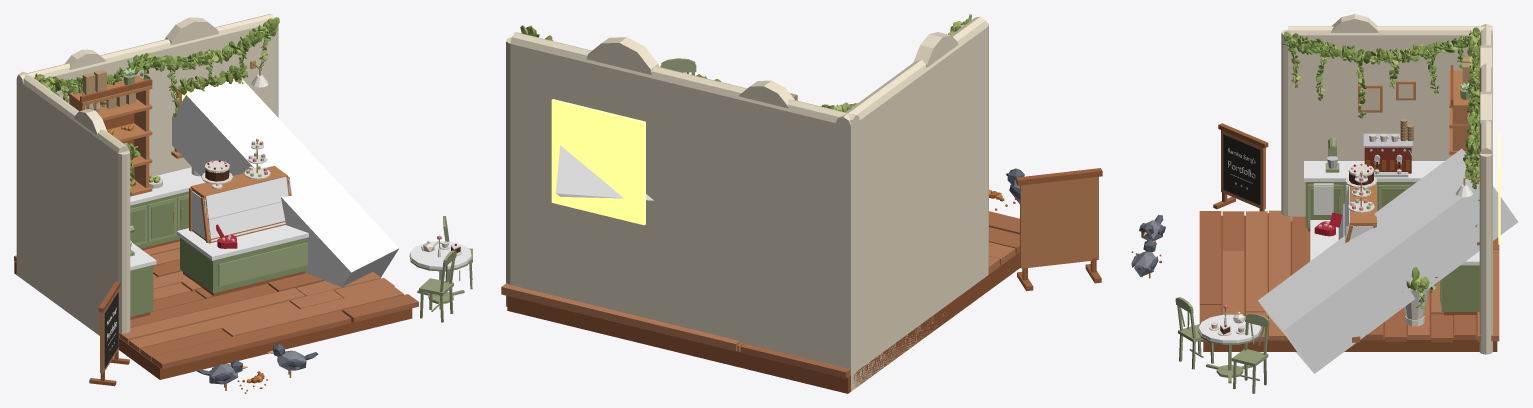
The model's file is lowpoly_cafe.glb.
3 renders of one model, left to right at view 1: azimuth 30°, elevation 25°; view 2: azimuth 150°, elevation 25°; view 3: azimuth 270°, elevation 25°, orthographic. The views are drawn at different scales.
Parts seen in each view (by area): view 1: Walls, Platform, SunbeamVolume, DisplayCase, Vines, Island, BakeryShelf, BackCounter, IslandTop, CakeStands, Bakery, LeftCounter (+8 smaller); view 2: Walls, Platform, WindowSky, PortfolioSign, SunbeamVolume, Vines; view 3: Walls, SunbeamVolume, Platform, Vines, EspressoMachine, SignChalkboard, BackCounter, LeftCounter, LeftCounter_Top, BakeryShelf, PortfolioSign, Chair_Back (+15 smaller).
Part boxes in pixels (x1,y1,x2,y2): Walls: (16, 14, 278, 337); Platform: (14, 241, 418, 379); SunbeamVolume: (172, 79, 399, 286); DisplayCase: (189, 166, 291, 243); Vines: (34, 17, 279, 195); Island: (180, 237, 307, 295); BakeryShelf: (68, 75, 152, 196); BackCounter: (130, 191, 188, 250); IslandTop: (176, 225, 308, 260); CakeStands: (201, 138, 270, 189); Bakery: (82, 68, 138, 186); LeftCounter: (130, 265, 153, 319); Walls: (506, 16, 988, 391); Platform: (501, 211, 1020, 393); WindowSky: (551, 99, 645, 225); PortfolioSign: (1016, 168, 1102, 291); SunbeamVolume: (556, 145, 653, 200); Vines: (520, 14, 971, 112); Walls: (1281, 14, 1492, 354); SunbeamVolume: (1258, 148, 1517, 373); Platform: (1199, 210, 1499, 351); Vines: (1281, 26, 1481, 308); EspressoMachine: (1363, 118, 1414, 177); SignChalkboard: (1223, 134, 1260, 205); BackCounter: (1438, 265, 1479, 315); LeftCounter: (1305, 182, 1416, 231); LeftCounter_Top: (1304, 161, 1443, 181); BakeryShelf: (1449, 65, 1470, 157); PortfolioSign: (1213, 123, 1268, 215); Chair_Back: (1231, 313, 1269, 393).
Size of what is drawn, in the model's own units: 10.34 by 5.73 by 8.69.
